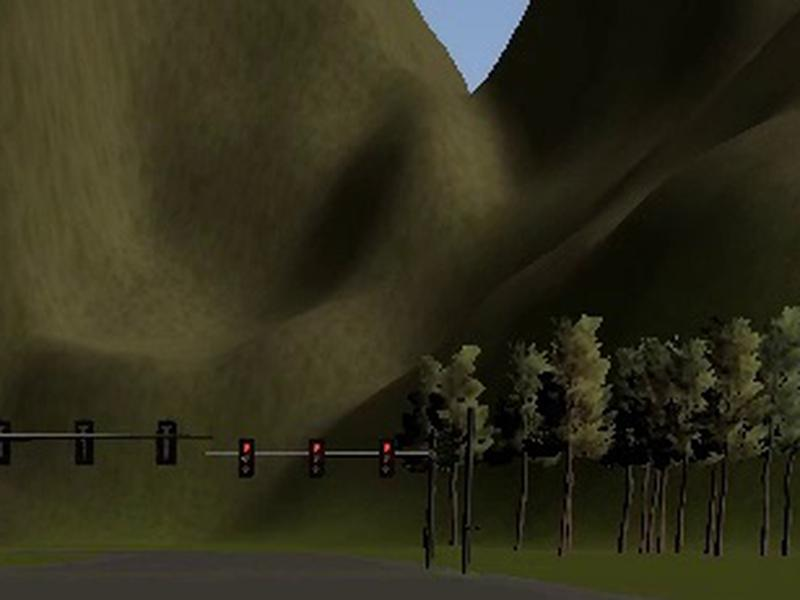Red: (379, 438, 396, 478), (239, 438, 255, 478), (309, 439, 325, 478)
